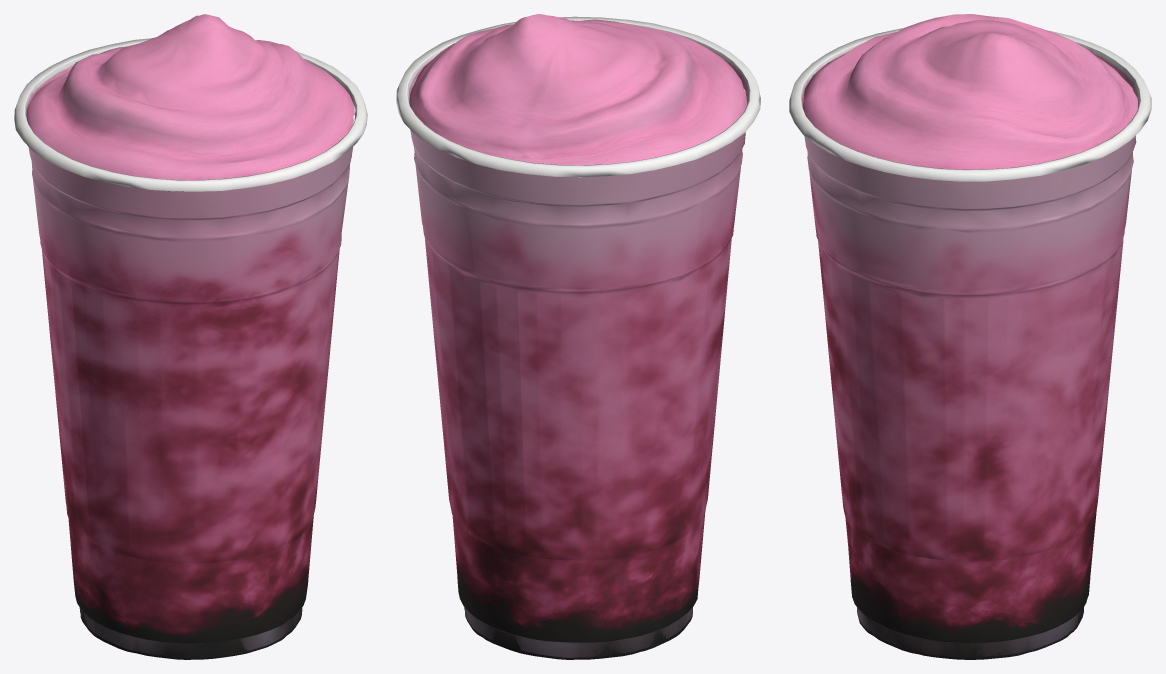
File: selected.glb
3 views of the same model, side by side, from view 1: azimuth 30°, elevation 25°; view 2: azimuth 150°, elevation 25°; view 3: azimuth 270°, elevation 25° (orthographic). The views are drawn at different scales.
Visible parts, largest first — view 1: tripo_node_4e17671c-0c04-4c93-940e-f8b71119e692; view 2: tripo_node_4e17671c-0c04-4c93-940e-f8b71119e692; view 3: tripo_node_4e17671c-0c04-4c93-940e-f8b71119e692.
Part boxes in pixels (bbox=[...]): tripo_node_4e17671c-0c04-4c93-940e-f8b71119e692: bbox=[14, 14, 367, 659]; tripo_node_4e17671c-0c04-4c93-940e-f8b71119e692: bbox=[396, 14, 760, 659]; tripo_node_4e17671c-0c04-4c93-940e-f8b71119e692: bbox=[789, 14, 1151, 659].
Bounding box in the file's own units: 0.5527 × 0.998 × 0.5527.
Materials: 1 (1 with a texture image).
